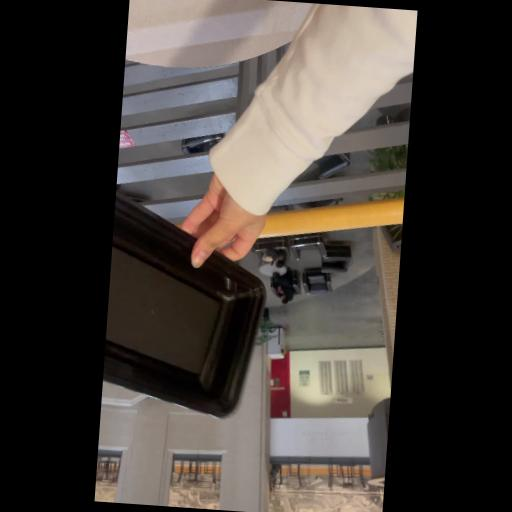rigid_plastic_container: (102, 190, 276, 423)
